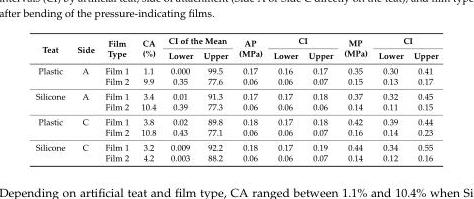table: (35, 35, 437, 162)
table column: (161, 35, 197, 162), (35, 35, 70, 162), (99, 35, 134, 162), (197, 35, 232, 162), (232, 35, 267, 162), (267, 35, 302, 162), (302, 35, 337, 162), (337, 35, 372, 162), (372, 35, 407, 162), (407, 35, 437, 162), (70, 35, 99, 162), (134, 35, 161, 162)
table column header: (35, 35, 437, 62)
table row: (35, 47, 437, 62), (35, 62, 437, 75), (35, 75, 437, 88), (35, 88, 437, 101), (35, 113, 437, 126), (35, 126, 437, 139), (35, 139, 437, 152), (35, 35, 437, 47), (35, 101, 437, 113), (35, 152, 437, 162)
table spanning cell: (35, 35, 70, 62), (99, 35, 134, 62), (232, 35, 267, 62), (337, 35, 372, 62), (35, 62, 70, 88), (35, 113, 70, 139), (35, 88, 70, 113), (161, 35, 232, 47), (267, 35, 337, 47), (35, 139, 70, 162), (70, 35, 99, 62), (372, 35, 437, 47), (134, 35, 161, 62)
